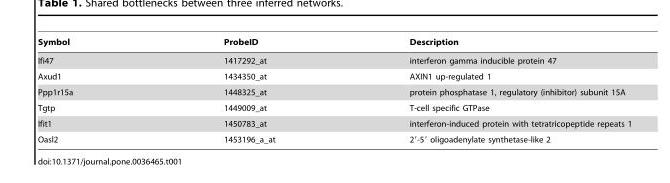table: (36, 37, 631, 143)
table column: (341, 37, 631, 143), (147, 37, 341, 143), (36, 37, 147, 143)
table column header: (36, 37, 631, 51)
table row: (36, 51, 631, 68), (36, 68, 631, 84), (36, 99, 631, 115), (36, 115, 631, 131), (36, 84, 631, 99), (36, 37, 631, 51), (36, 131, 631, 143)
